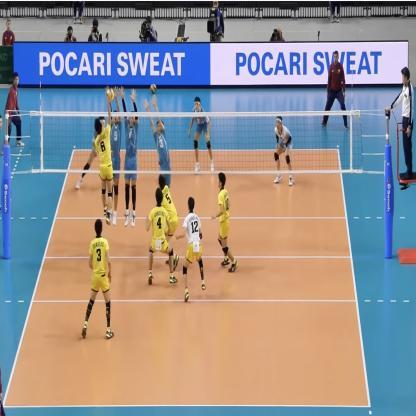spike: (92, 84, 118, 228)
